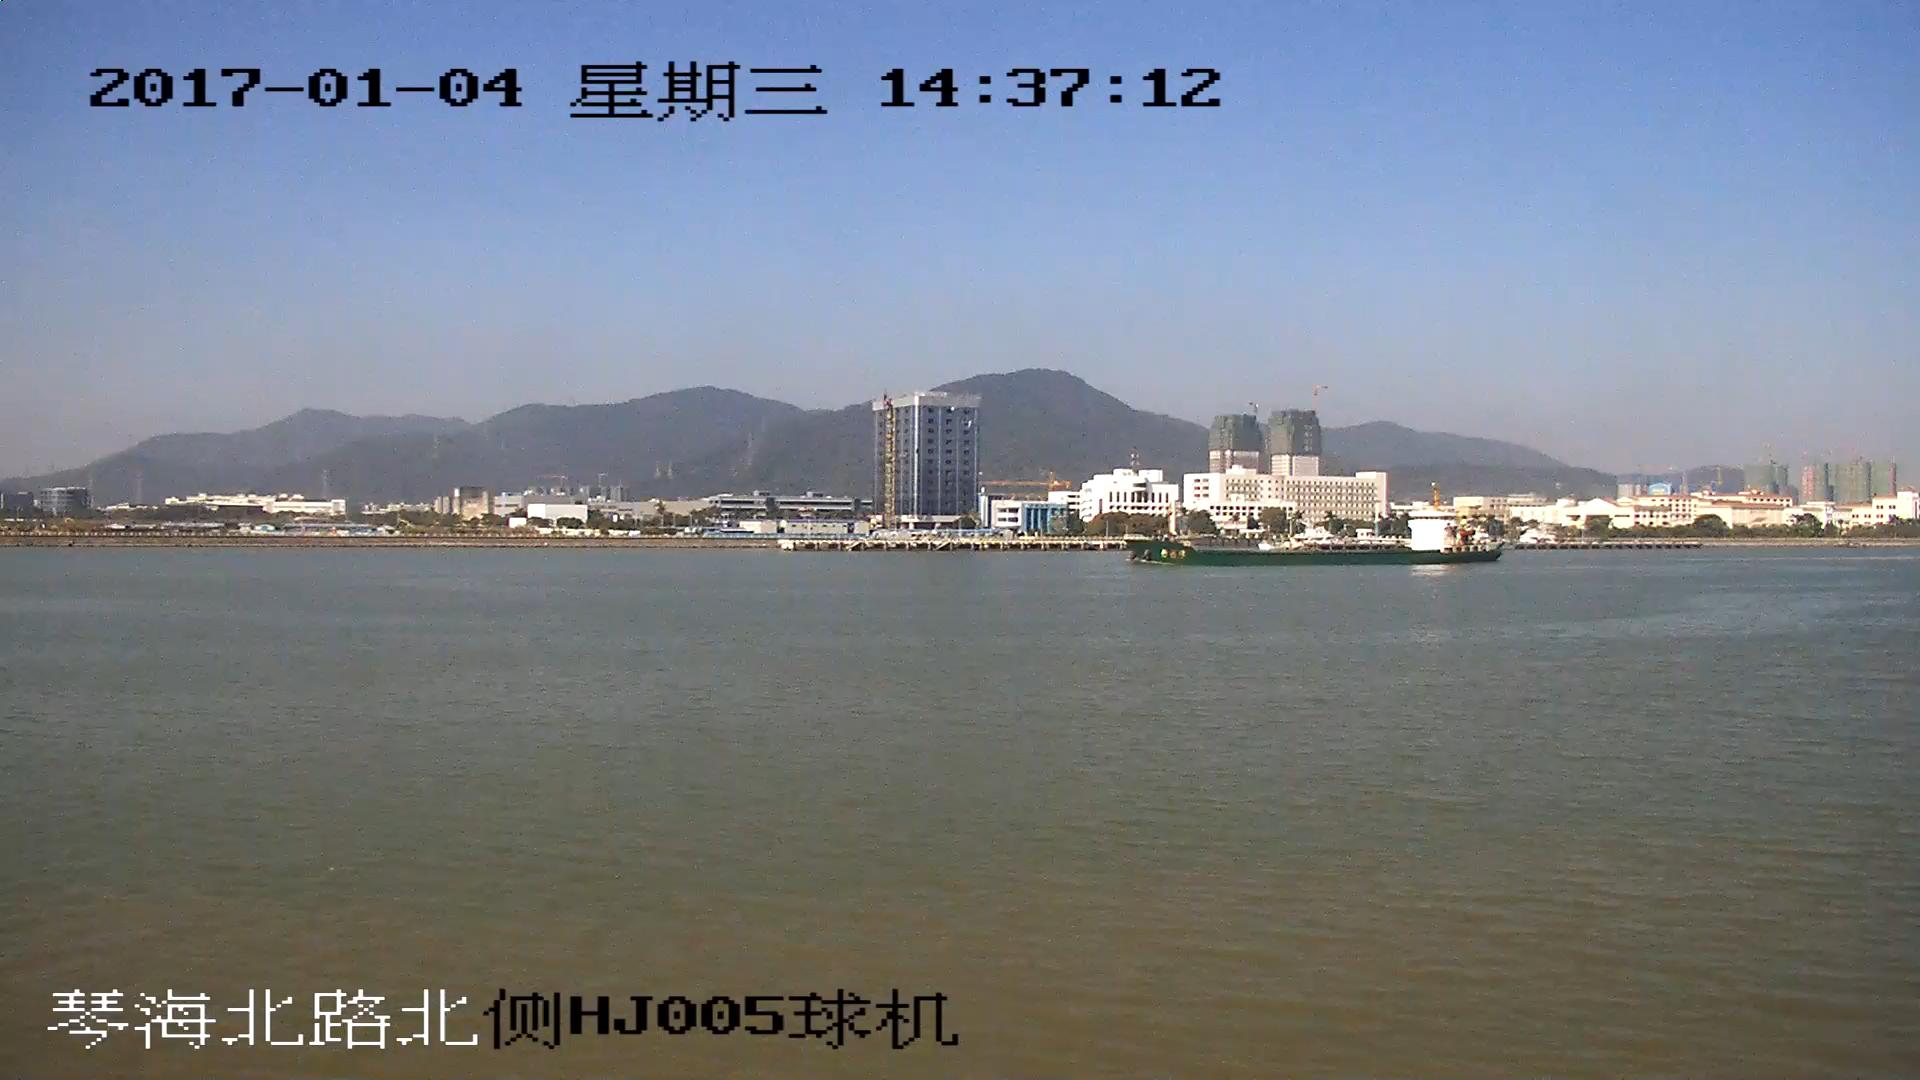general cargo ship: (1128, 497, 1506, 565)
